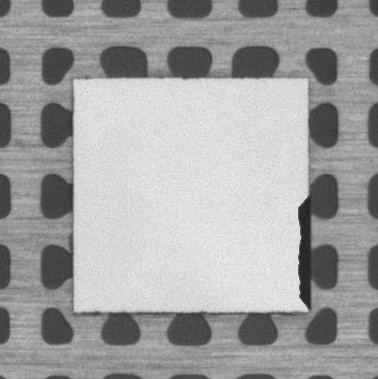DIE_BROKEN: (294, 196, 313, 312)
